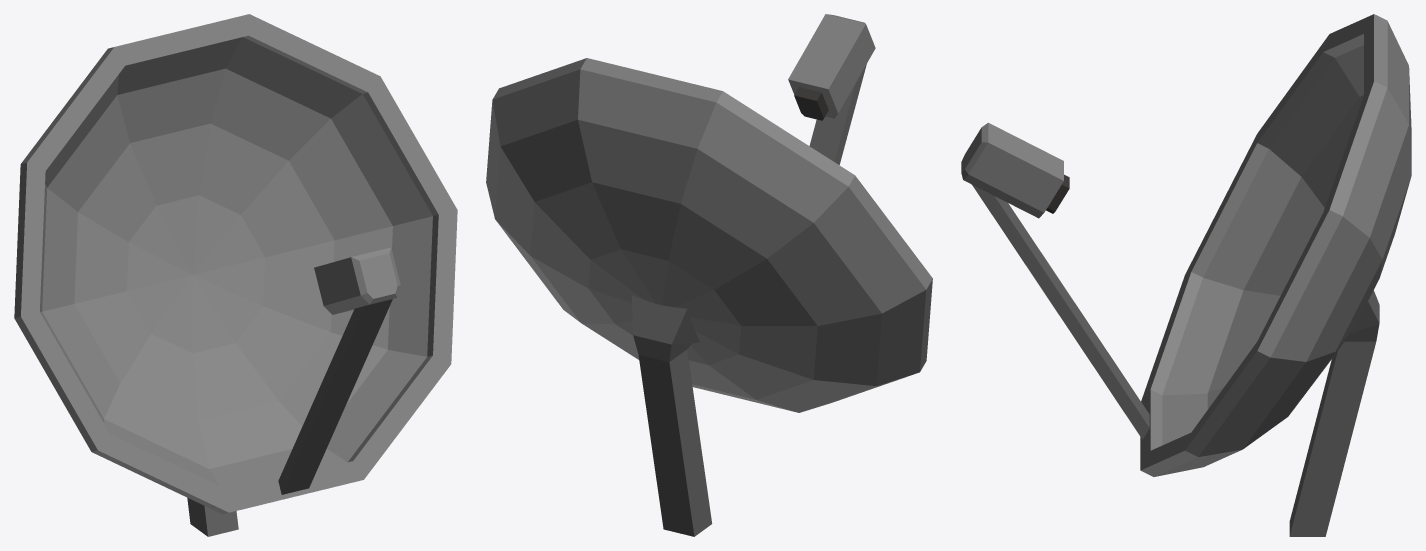
Rendered from SM_Props_Suburb_Antenna_01.fbx.
The picture shows the model from 3 angles, left to right: view 1: azimuth 30°, elevation 25°; view 2: azimuth 150°, elevation 25°; view 3: azimuth 270°, elevation 25°; orthographic projection.
Parts seen in each view (by area): view 1: SM_Props_Suburb_Antenna_01; view 2: SM_Props_Suburb_Antenna_01; view 3: SM_Props_Suburb_Antenna_01.
Boxes of the visible parts, x1,y1,x2,y2 form: SM_Props_Suburb_Antenna_01: (14,14,457,536); SM_Props_Suburb_Antenna_01: (486,14,932,536); SM_Props_Suburb_Antenna_01: (961,14,1411,536).
Bounding box in the file's own units: 118 × 122 × 103.
